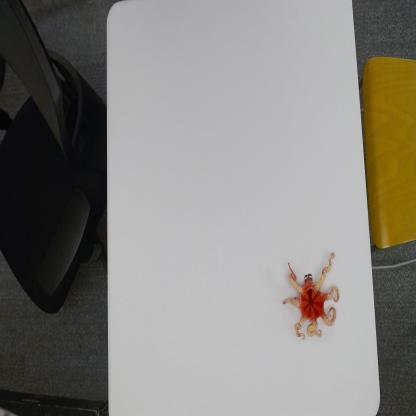Octopus: (282, 249, 341, 344)
